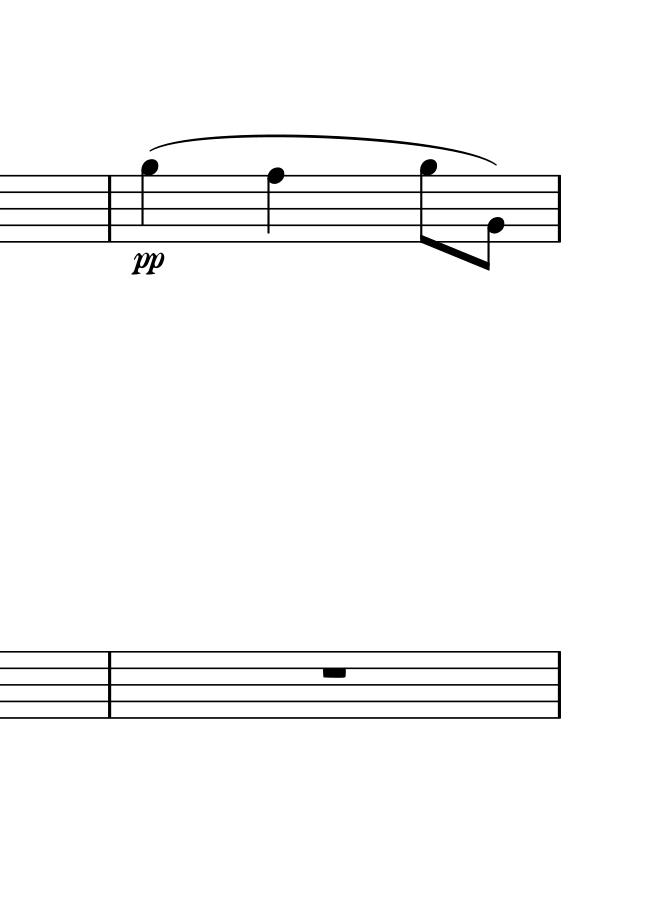4_8: (265, 166, 286, 245)
4_9: (140, 159, 160, 246)
8_2: (476, 173, 505, 274)
8_9: (417, 154, 440, 249)
Rests1: (315, 664, 351, 686)
Single_barline: (549, 651, 567, 719), (551, 174, 566, 240), (102, 176, 117, 240), (102, 651, 116, 718)
Slur: (150, 134, 497, 169)
pp: (128, 250, 167, 277)
